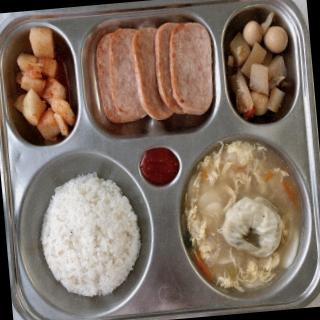Nasi: (37, 168, 148, 307)
